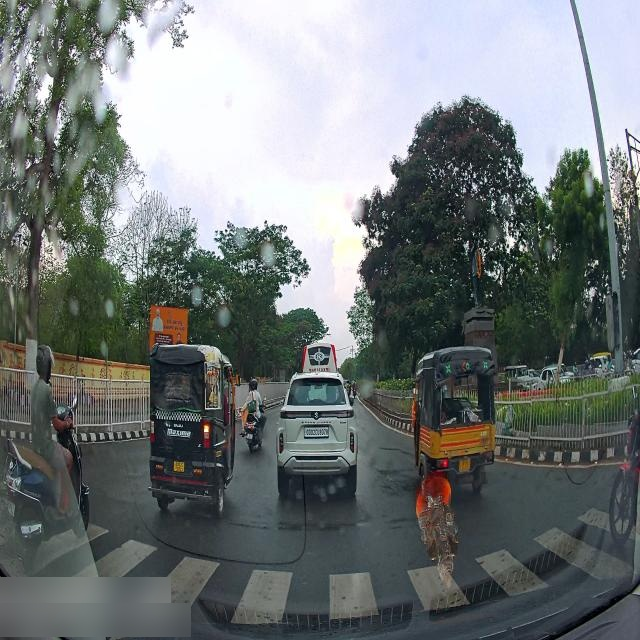pothole: (380, 472, 418, 497), (377, 466, 412, 474), (378, 445, 403, 453)
